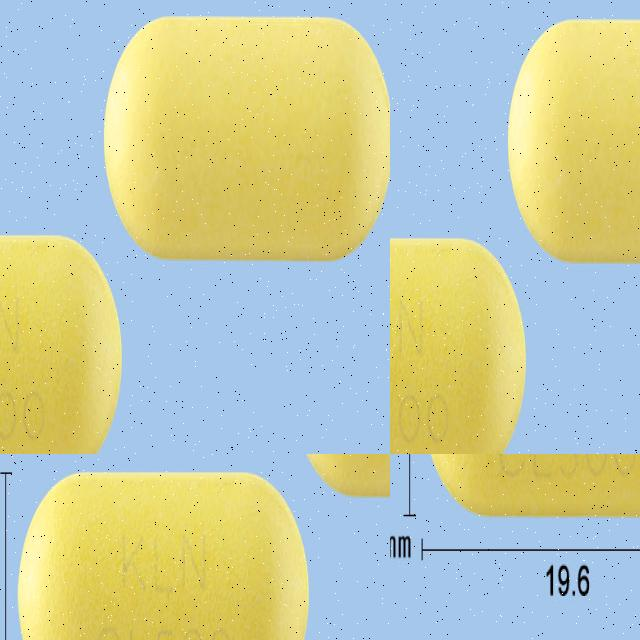Kimara - 20mg: (18, 316, 162, 454)
Lesacra: (522, 38, 640, 454), (390, 34, 478, 454)
Loxin: (144, 481, 361, 640)
New Clato Tab-500mg: (421, 454, 640, 517)
